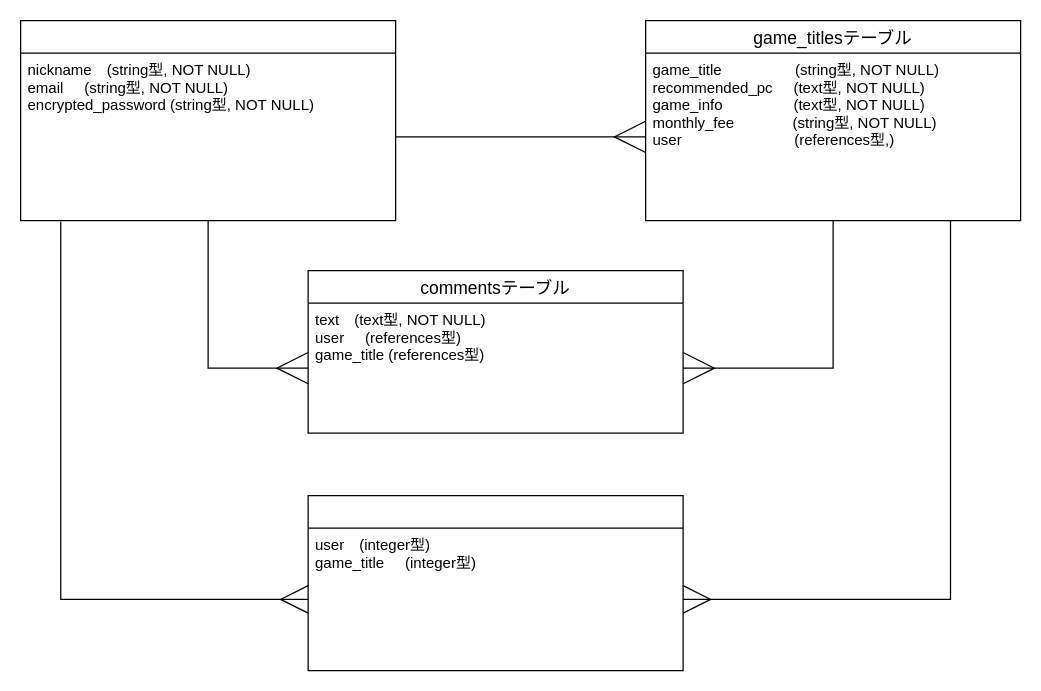
The diagram is 1041 pixels wide and 691 high, and some of its shapes have lost their labels. The shapes that lost their labels are listed below. From the top down, each one's box as (x1, y1, x2, y2) in pixels, then its label:
(19, 19, 396, 221): usersテーブル
(307, 494, 683, 671): favotitesテーブル
